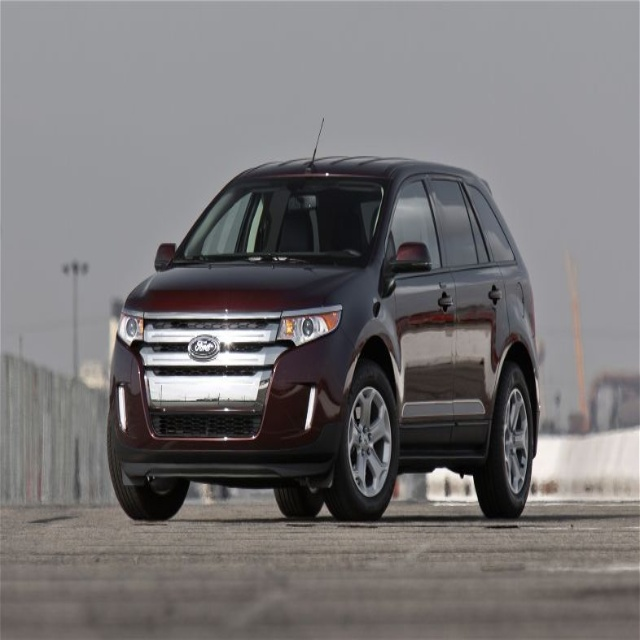Car: (107, 155, 540, 519)
